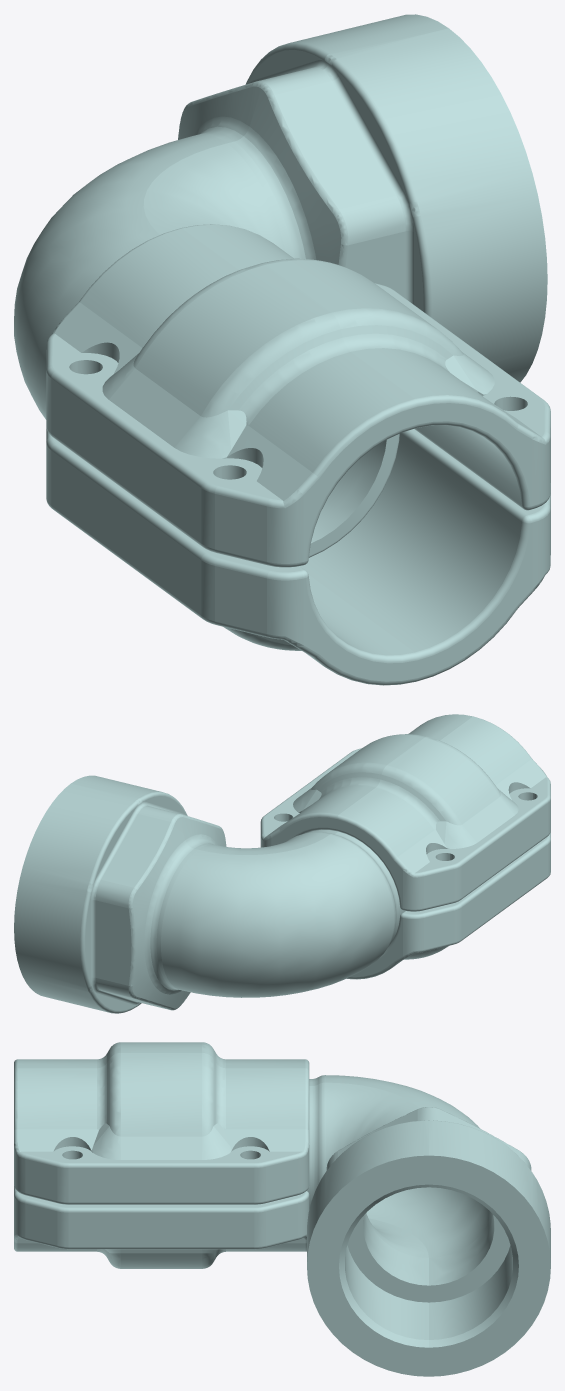
3 views of the same model, one above another, from view 1: azimuth 30°, elevation 25°; view 2: azimuth 150°, elevation 25°; view 3: azimuth 270°, elevation 25° (orthographic). The views are drawn at different scales.
Size of the model in its own units: 102 by 64.48 by 142.
